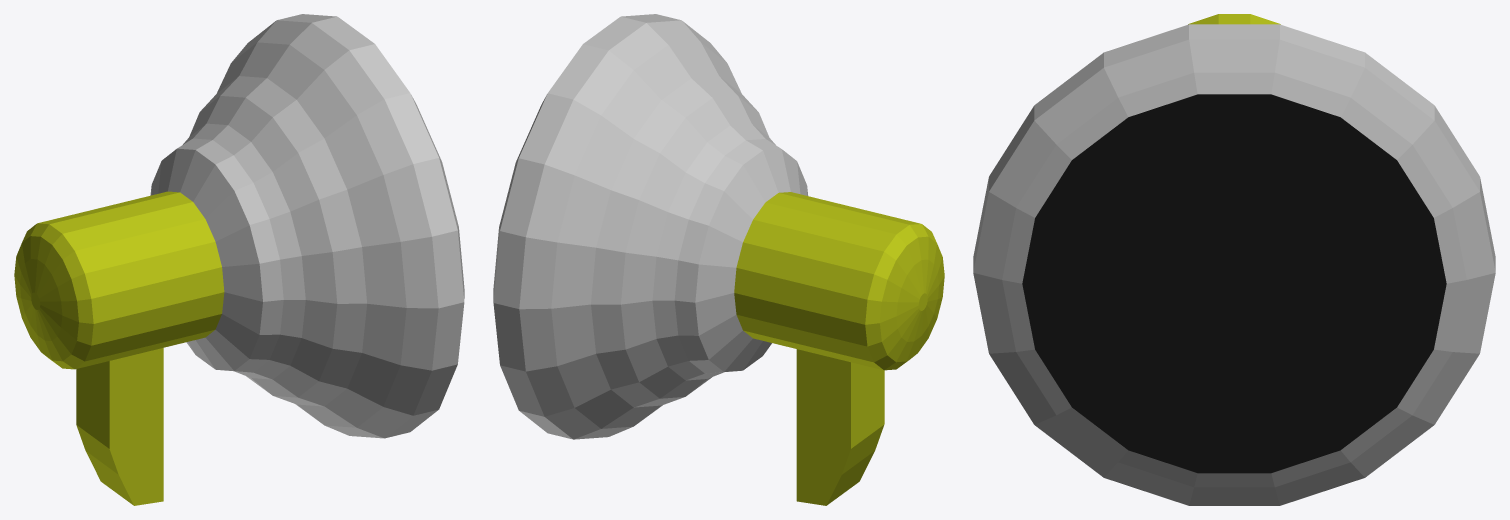
Rendered from mega_fone.fbx.
3 views of the same model, side by side, from view 1: azimuth 30°, elevation 25°; view 2: azimuth 150°, elevation 25°; view 3: azimuth 270°, elevation 25° (orthographic). The views are drawn at different scales.
Parts seen in each view (by area): view 1: mega_fone; view 2: mega_fone; view 3: mega_fone.
Boxes of the visible parts, bbox=[...] form: mega_fone: bbox=[14, 14, 464, 505]; mega_fone: bbox=[493, 14, 944, 505]; mega_fone: bbox=[973, 14, 1495, 505].
Bounding box in the file's own units: 87.55 × 100 × 96.54.
